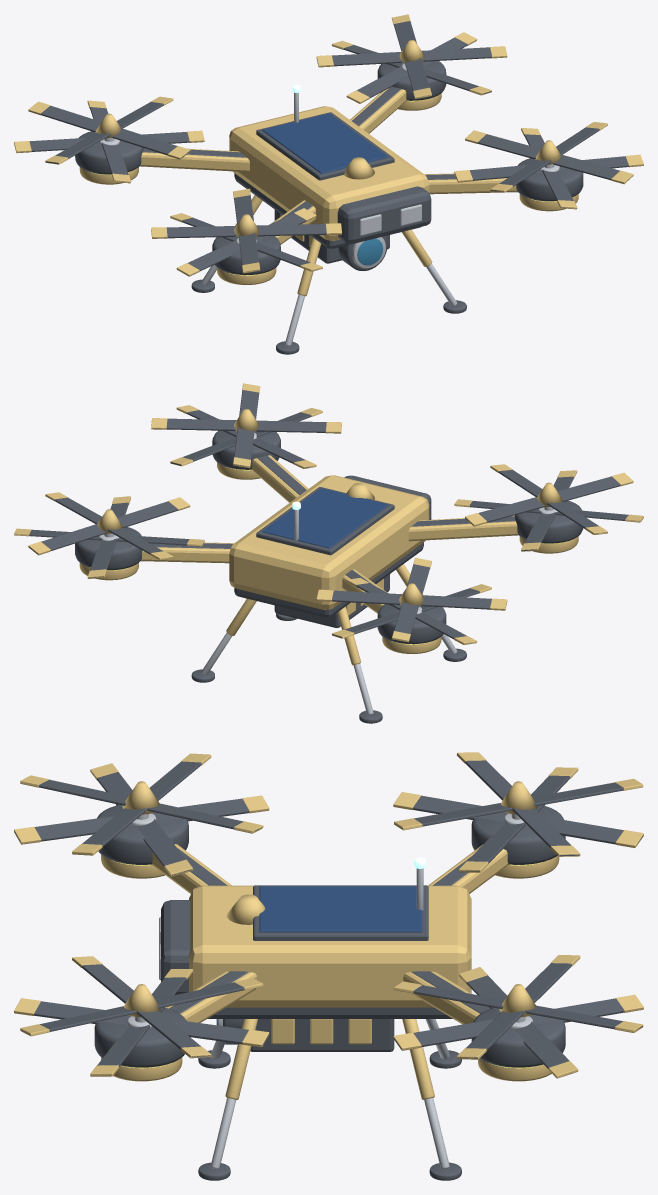
The model's file is bento-drone.glb.
3 renders of one model, top to bottom at view 1: azimuth 30°, elevation 25°; view 2: azimuth 150°, elevation 25°; view 3: azimuth 270°, elevation 25°, orthographic. The views are drawn at different scales.
Parts seen in each view (by area): view 1: Fuselage_Core, Dorsal_Solar_Cells, Nose_Cowl_Outer, Arm_Boom_2, Rotor_Blade_3_0.39_1, Rotor_Blade_0_0.39_1, Rotor_Blade_1_0.39_1, Rotor_Blade_2_0.39_1, Nacelle_Upper_1, Nacelle_Upper_2, Dorsal_Solar_Frame, Nacelle_Upper_0 (+22 smaller); view 2: Fuselage_Core, Dorsal_Solar_Cells, Arm_Boom_0, Rotor_Blade_2_0.39_0, Rotor_Blade_1_0.39_0, Rotor_Blade_0_0.39_0, Rotor_Blade_3_0.39_0, Nacelle_Upper_3, Dorsal_Solar_Frame, Nacelle_Upper_0, Fuselage_BellyPan, Nacelle_Upper_2 (+19 smaller); view 3: Fuselage_Core, Dorsal_Solar_Cells, Fuselage_BellyPan, Payload_Cage, Nacelle_Upper_1, Dorsal_Solar_Frame, Nacelle_Upper_0, Nacelle_Upper_3, Nose_Cowl_Outer, Nacelle_Upper_2, Rotor_Blade_3_0.31_1, Rotor_Blade_2_0.31_1 (+34 smaller).
Boxes of the visible parts, x1,y1,x2,y2 form: Fuselage_Core: [229, 106, 429, 240]; Dorsal_Solar_Cells: [262, 113, 388, 173]; Nose_Cowl_Outer: [337, 186, 431, 243]; Arm_Boom_2: [140, 148, 249, 172]; Rotor_Blade_3_0.39_1: [316, 47, 491, 66]; Rotor_Blade_0_0.39_1: [166, 224, 326, 238]; Rotor_Blade_1_0.39_1: [477, 134, 619, 180]; Rotor_Blade_2_0.39_1: [40, 105, 189, 158]; Nacelle_Upper_1: [516, 158, 583, 201]; Nacelle_Upper_2: [75, 131, 143, 174]; Dorsal_Solar_Frame: [256, 112, 394, 180]; Nacelle_Upper_0: [212, 236, 280, 275]; Fuselage_Core: [229, 475, 429, 609]; Dorsal_Solar_Cells: [262, 488, 388, 548]; Arm_Boom_0: [408, 515, 518, 541]; Rotor_Blade_2_0.39_0: [332, 590, 507, 609]; Rotor_Blade_1_0.39_0: [166, 418, 326, 432]; Rotor_Blade_0_0.39_0: [465, 476, 620, 522]; Rotor_Blade_3_0.39_0: [29, 501, 177, 553]; Nacelle_Upper_3: [75, 527, 142, 570]; Dorsal_Solar_Frame: [256, 487, 394, 555]; Nacelle_Upper_0: [515, 500, 583, 543]; Fuselage_BellyPan: [234, 542, 423, 617]; Nacelle_Upper_2: [377, 604, 446, 644]; Fuselage_Core: [189, 885, 471, 1007]; Dorsal_Solar_Cells: [259, 886, 422, 932]; Fuselage_BellyPan: [207, 1007, 452, 1018]; Payload_Cage: [250, 1019, 394, 1051]; Nacelle_Upper_1: [94, 1008, 186, 1067]; Dorsal_Solar_Frame: [253, 885, 428, 940]; Nacelle_Upper_0: [97, 805, 188, 864]; Nacelle_Upper_3: [471, 1008, 565, 1067]; Nose_Cowl_Outer: [161, 900, 190, 994]; Nacelle_Upper_2: [471, 805, 565, 864]; Rotor_Blade_3_0.31_1: [393, 998, 624, 1049]; Rotor_Blade_2_0.31_1: [413, 795, 643, 844].
Size of the model in its own units: 3.43 by 1.34 by 2.94.
